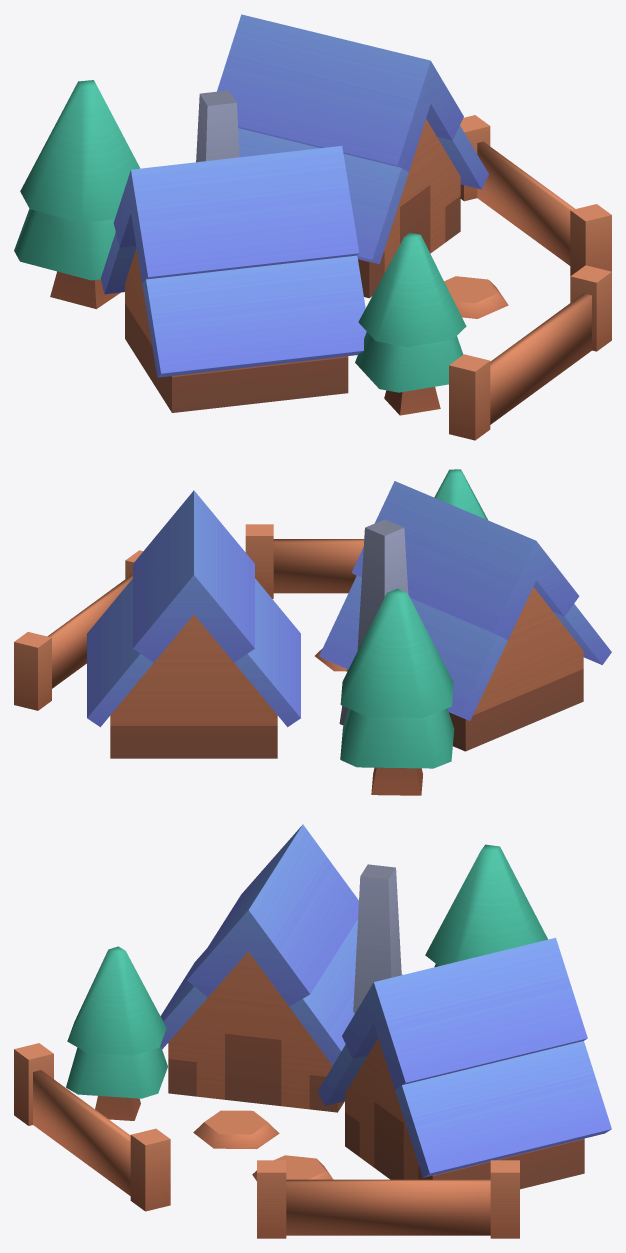
Rendered from village.fbx.
3 views of the same model, one above another, from view 1: azimuth 30°, elevation 25°; view 2: azimuth 150°, elevation 25°; view 3: azimuth 270°, elevation 25° (orthographic). The views are drawn at different scales.
Visible parts, largest first — view 1: building_village.001; view 2: building_village.001; view 3: building_village.001.
Boxes of the visible parts, x1,y1,x2,y2 form: building_village.001: (14,14,611,440); building_village.001: (14,469,611,795); building_village.001: (14,824,611,1238).
Bounding box in the file's own units: 91.84 × 40 × 102.
1 material, 1 textured.
